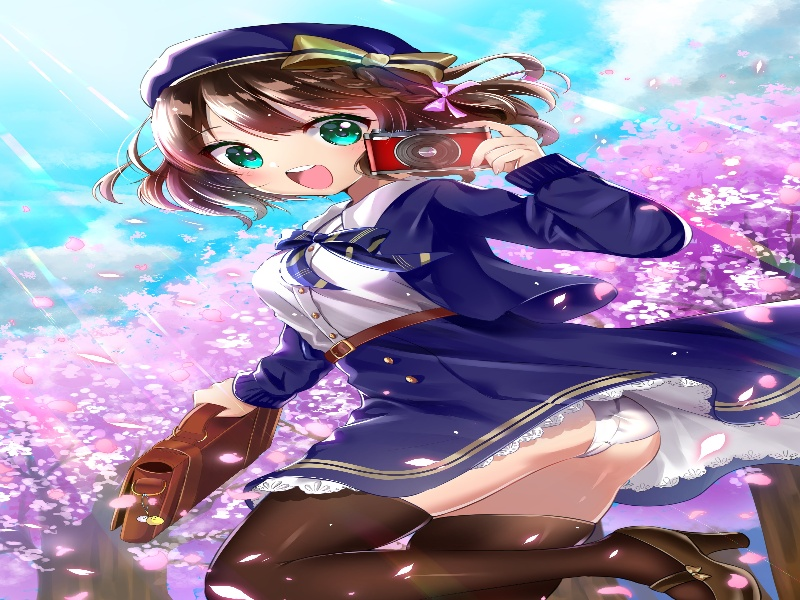person: (179, 90, 415, 211)
